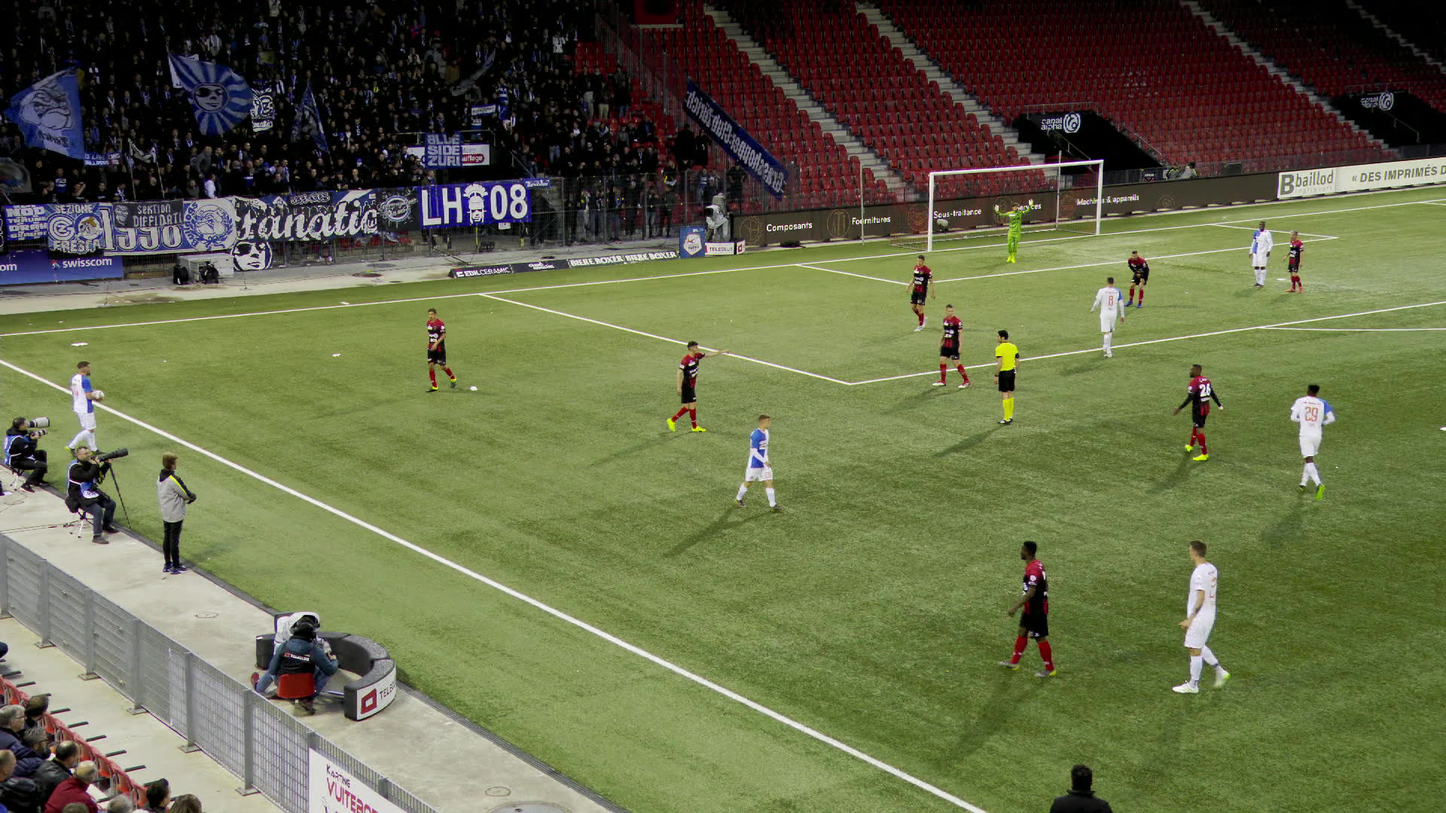ball: (91, 390, 104, 398)
player: (1171, 540, 1231, 696), (996, 540, 1056, 679), (665, 339, 728, 433), (1171, 364, 1223, 461), (1291, 386, 1335, 500), (734, 415, 781, 513), (71, 361, 109, 456), (932, 304, 969, 388), (1090, 276, 1124, 357), (425, 306, 457, 391), (994, 199, 1034, 263), (904, 256, 935, 332), (1248, 221, 1274, 288), (1124, 250, 1149, 308), (1282, 230, 1304, 292)
referee: (993, 328, 1020, 423)
